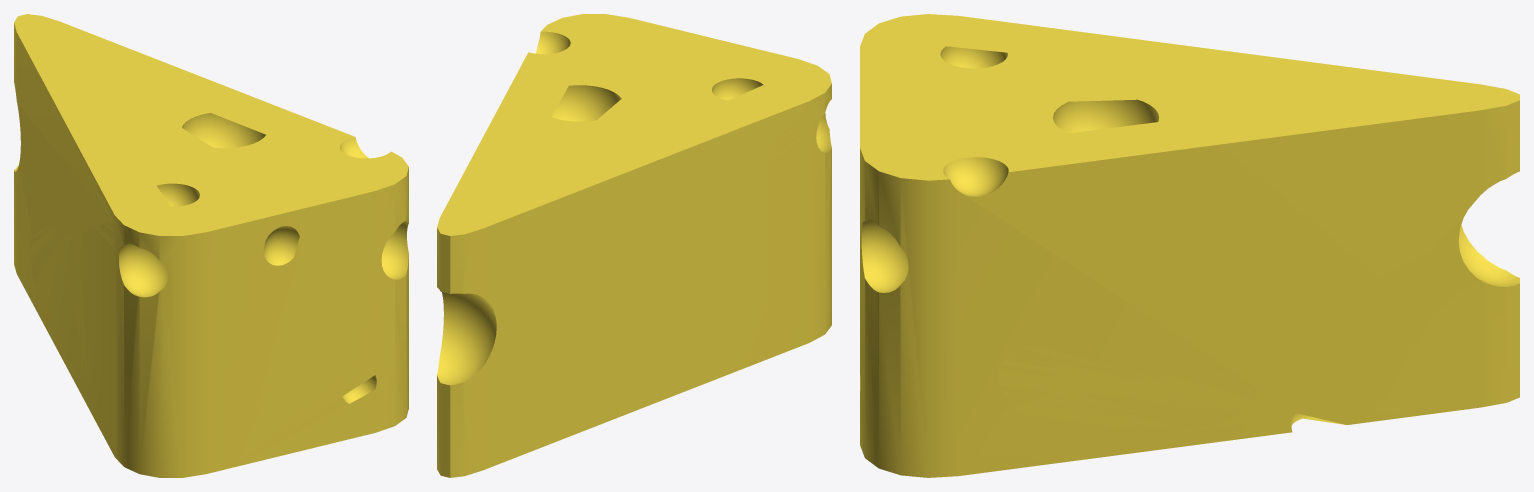
File: Cheese.fbx
3 renders of one model, left to right at view 1: azimuth 30°, elevation 25°; view 2: azimuth 150°, elevation 25°; view 3: azimuth 270°, elevation 25°, orthographic. The views are drawn at different scales.
Parts seen in each view (by area): view 1: Cylinder; view 2: Cylinder; view 3: Cylinder.
Part boxes in pixels (bbox=[...]): Cylinder: bbox=[14, 14, 408, 477]; Cylinder: bbox=[437, 14, 831, 477]; Cylinder: bbox=[860, 14, 1519, 477].
Bounding box in the file's own units: 8.22 × 6.84 × 13.76.
